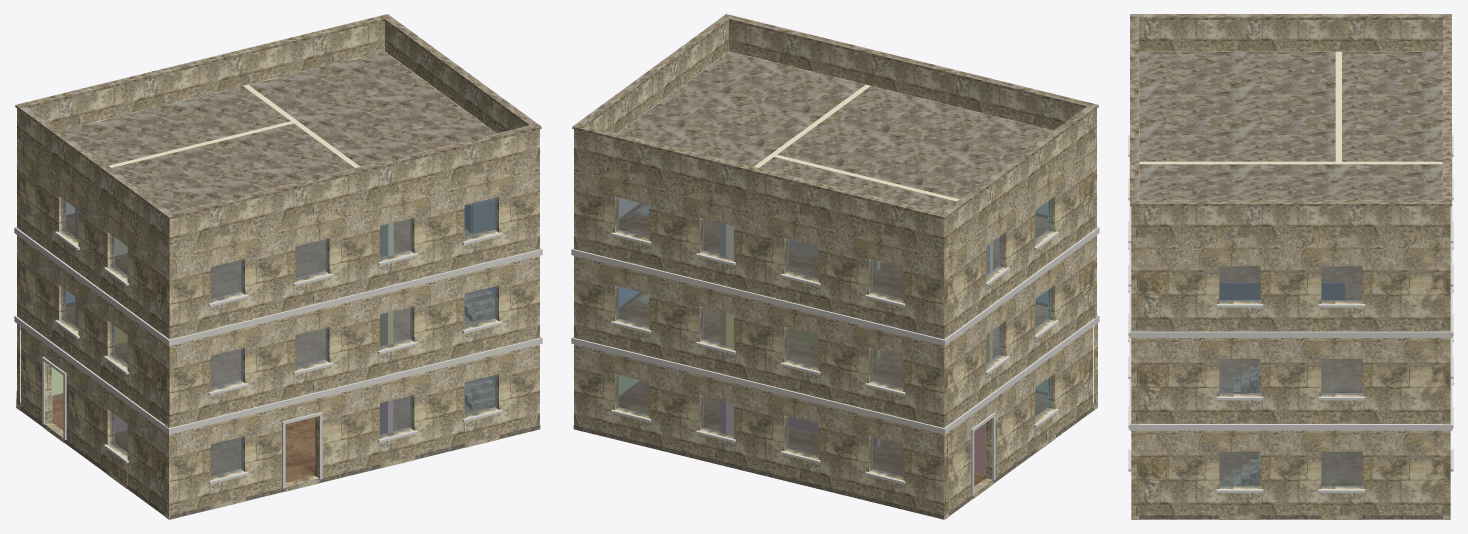
The model's file is customs-house.zfix-v14.lod0.glb.
The picture shows the model from 3 angles, left to right: view 1: azimuth 30°, elevation 25°; view 2: azimuth 150°, elevation 25°; view 3: azimuth 270°, elevation 25°; orthographic projection. The views are drawn at different scales.
Parts seen in each view (by area): view 1: customs-house; view 2: customs-house; view 3: customs-house.
Part boxes in pixels (bbox=[...]): customs-house: bbox=[14, 14, 542, 519]; customs-house: bbox=[571, 14, 1099, 519]; customs-house: bbox=[1128, 14, 1453, 519].
Size of the model in its own units: 14.2 by 10.95 by 10.2.
Materials: 5 (3 with a texture image).
